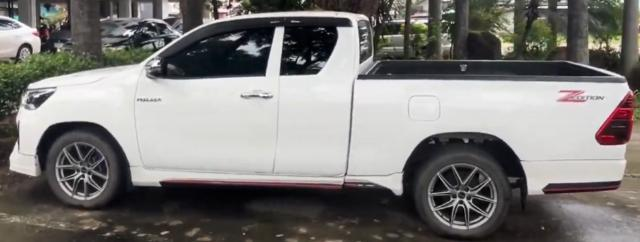pickup-truck: (12, 10, 635, 238)
